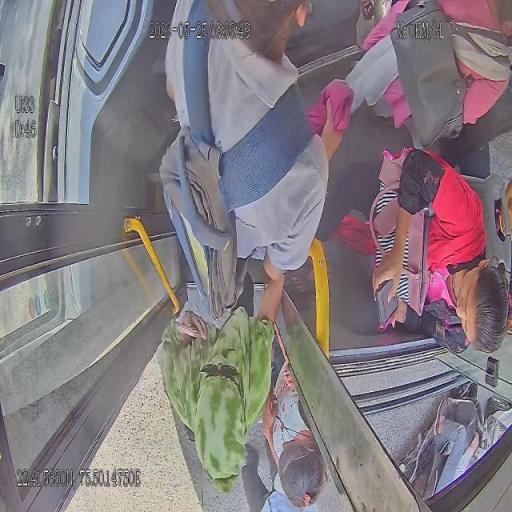persona: (159, 0, 330, 303), (318, 146, 510, 356), (158, 274, 288, 496), (355, 0, 511, 155), (264, 364, 328, 510)
